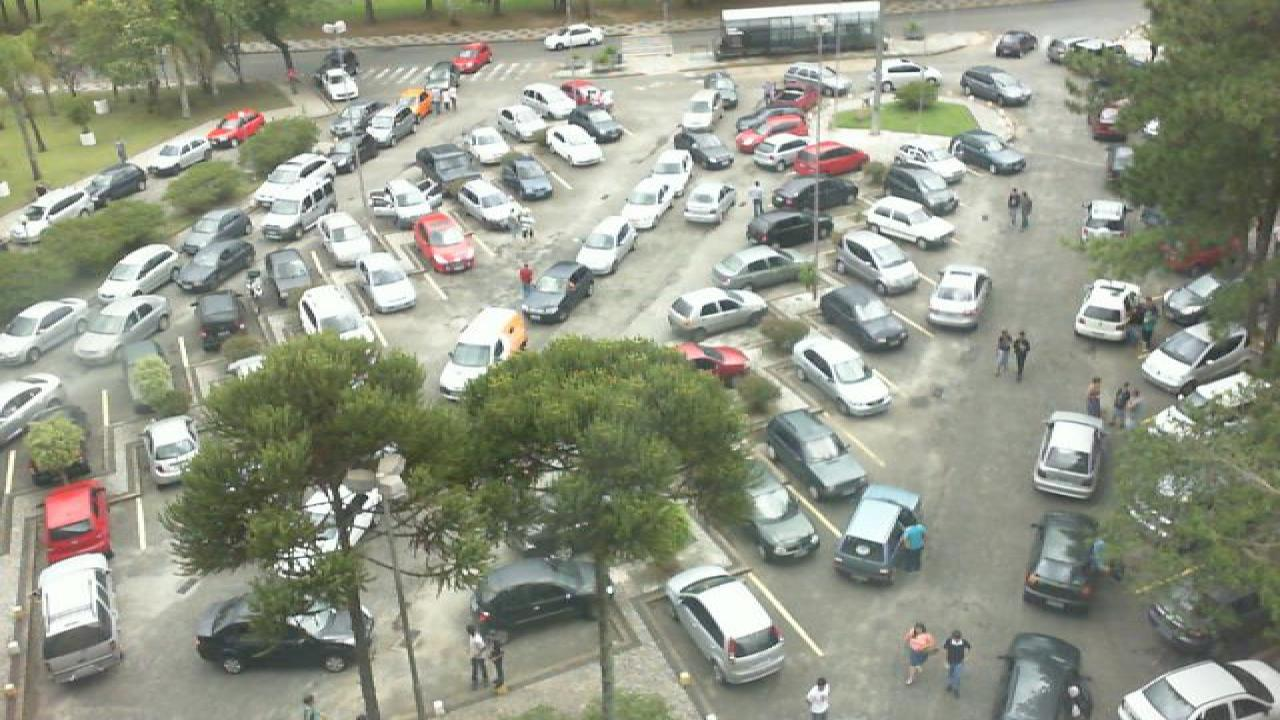Car: (664, 565, 790, 686), (192, 592, 368, 676), (472, 548, 606, 633), (36, 564, 124, 682), (764, 407, 872, 502), (1116, 659, 1280, 720), (830, 484, 922, 585), (436, 306, 528, 406), (1020, 510, 1106, 614), (790, 331, 892, 417), (998, 631, 1090, 720), (1140, 322, 1250, 395), (72, 292, 170, 366), (740, 472, 820, 562), (296, 285, 392, 360), (1032, 408, 1106, 500), (816, 282, 908, 352), (222, 153, 336, 208), (0, 297, 86, 367), (40, 475, 112, 558), (836, 229, 920, 294), (172, 225, 256, 290), (666, 287, 768, 340), (860, 195, 958, 250), (518, 258, 600, 322), (710, 243, 814, 291), (94, 243, 180, 297), (1072, 278, 1144, 342), (140, 415, 204, 487), (260, 180, 336, 240), (352, 248, 420, 312), (0, 371, 64, 438), (926, 264, 988, 332), (578, 215, 648, 273), (412, 212, 476, 273), (884, 164, 960, 215), (260, 248, 322, 310), (948, 128, 1028, 176), (672, 340, 750, 388), (372, 168, 448, 217), (306, 203, 368, 262), (194, 289, 252, 352), (452, 179, 522, 231), (746, 207, 832, 249), (770, 176, 860, 216), (4, 188, 82, 234), (1158, 272, 1230, 321), (610, 181, 674, 234), (414, 142, 482, 188), (960, 65, 1034, 106), (76, 164, 148, 206), (790, 140, 868, 176), (202, 110, 270, 151), (496, 100, 558, 143), (636, 146, 690, 195), (674, 128, 736, 170), (500, 153, 554, 201), (546, 122, 604, 166), (892, 140, 966, 174), (518, 81, 580, 121), (754, 132, 820, 168), (684, 180, 738, 224), (146, 140, 212, 176), (870, 77, 944, 109), (562, 106, 624, 144), (328, 124, 378, 168), (782, 63, 850, 95), (460, 124, 512, 165), (1084, 198, 1130, 244), (736, 111, 804, 142), (366, 102, 416, 144), (1088, 96, 1128, 142), (768, 78, 822, 112), (678, 94, 724, 132), (1054, 35, 1118, 62), (398, 84, 440, 124), (542, 25, 606, 50), (318, 64, 360, 102), (558, 78, 614, 106), (698, 72, 740, 108), (450, 42, 494, 76), (994, 30, 1040, 58), (424, 60, 456, 94)
